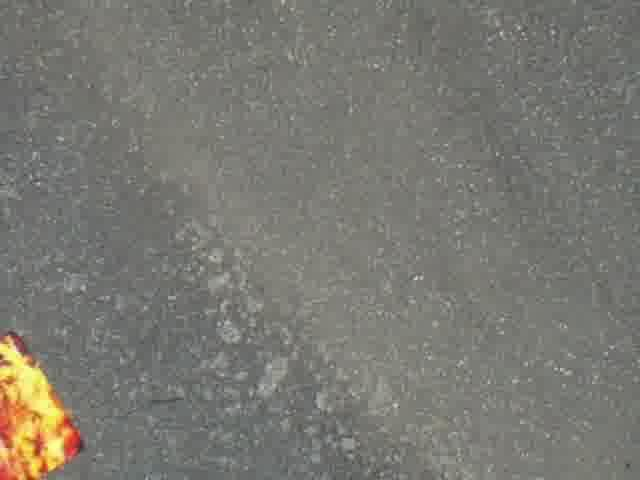fire-poster: (0, 333, 81, 480)
